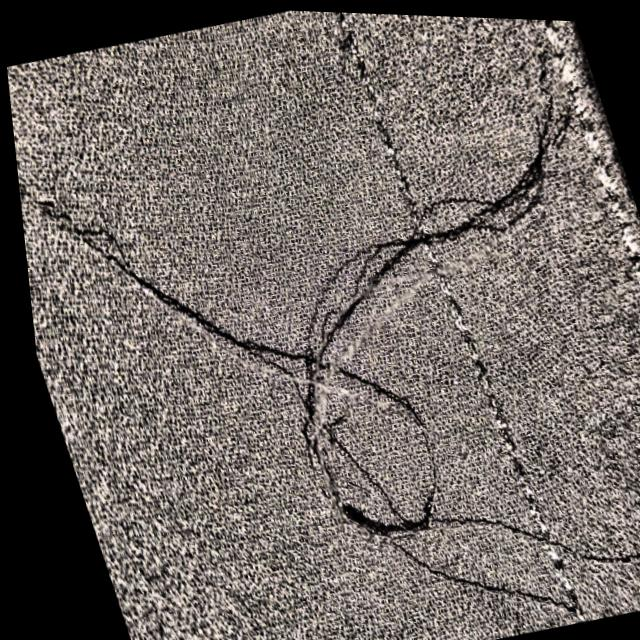Stitch: (21, 47, 640, 575)
